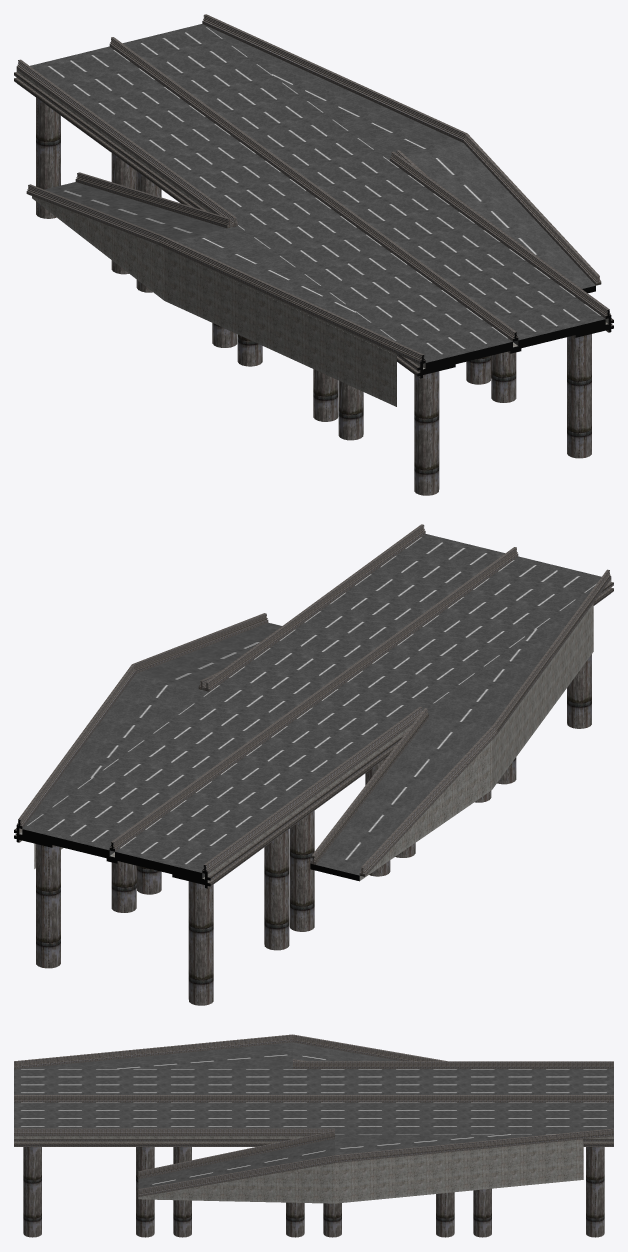
File: HighwayJunct2_high.fbx
The picture shows the model from 3 angles, top to bottom: view 1: azimuth 30°, elevation 25°; view 2: azimuth 150°, elevation 25°; view 3: azimuth 270°, elevation 25°; orthographic projection. The views are drawn at different scales.
Parts seen in each view (by area): view 1: materialE150, materialD150, materialA150, materialB150, materialC150; view 2: materialE150, materialD150, materialA150, materialB150, materialC150; view 3: materialE150, materialD150, materialB150, materialA150.
Part boxes in pixels (x1,y1,x2,y2): materialE150: (30, 24, 605, 362); materialD150: (14, 14, 613, 495); materialA150: (44, 24, 595, 341); materialB150: (16, 69, 608, 406); materialC150: (417, 285, 613, 378); materialE150: (22, 534, 601, 878); materialD150: (14, 524, 613, 1005); materialA150: (22, 586, 594, 875); materialB150: (19, 579, 611, 882); materialC150: (14, 819, 359, 888); materialE150: (14, 1069, 613, 1134); materialD150: (14, 1034, 613, 1237); materialB150: (14, 1136, 613, 1203); materialA150: (16, 1042, 551, 1189).
Bounding box in the file's own units: 99.2 × 41.6 × 205.
